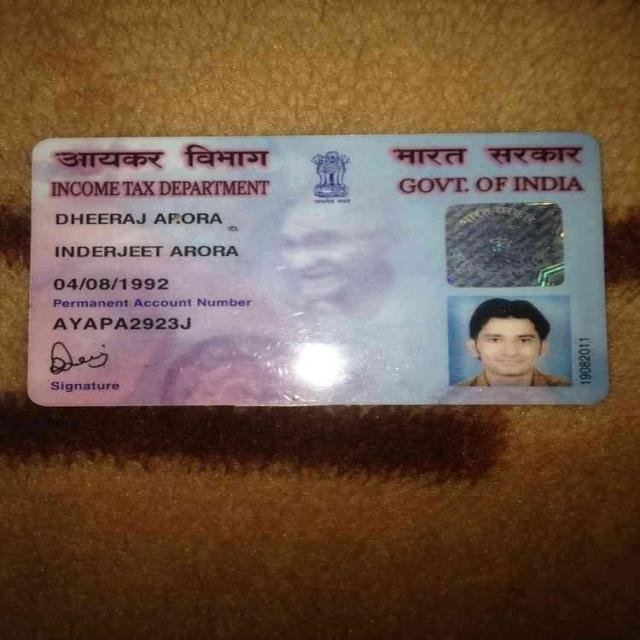pan_card: (27, 137, 607, 402)
